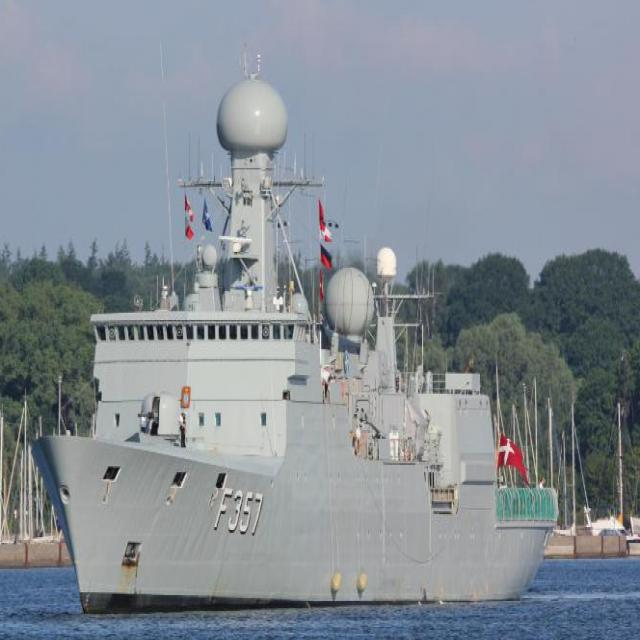Fragata: (24, 7, 569, 619)
